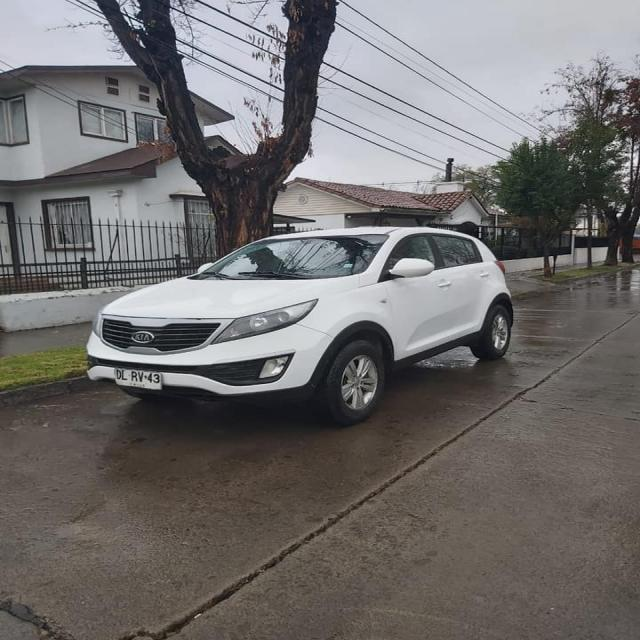patente: (113, 367, 163, 390)
